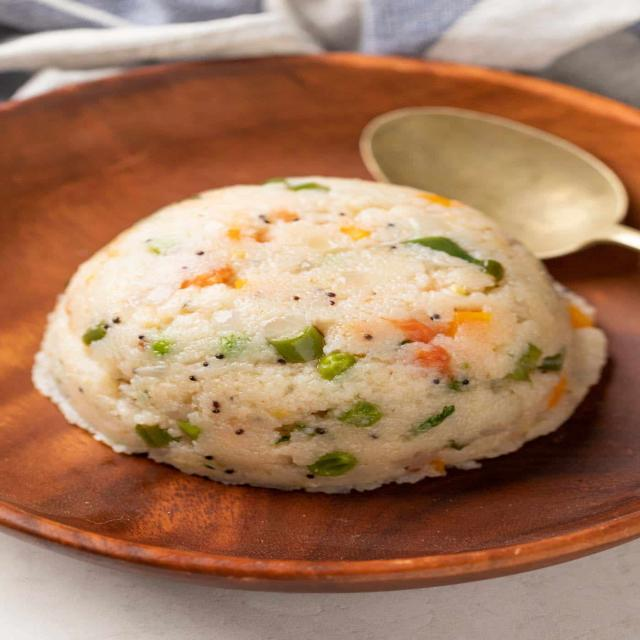UPMA: (32, 178, 586, 489)
